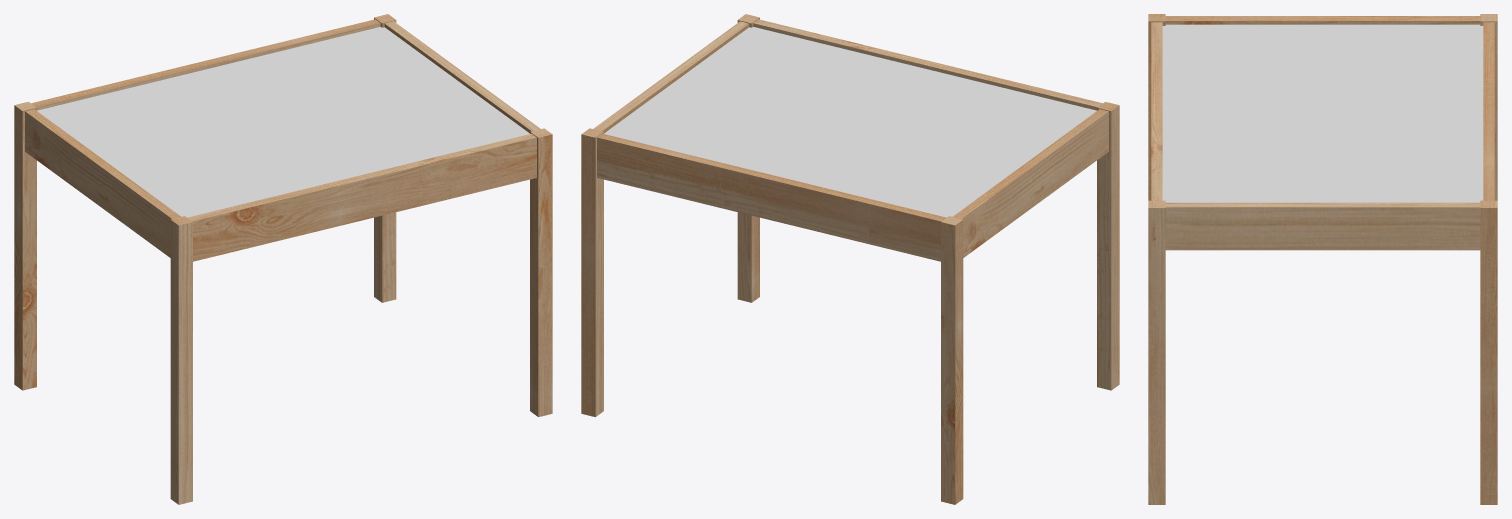
The model's file is sh_scopia_children_table.glb.
3 views of the same model, side by side, from view 1: azimuth 30°, elevation 25°; view 2: azimuth 150°, elevation 25°; view 3: azimuth 270°, elevation 25° (orthographic). The views are drawn at different scales.
Bounding box in the file's own units: 0.63 × 0.45 × 0.48.
2 materials, 1 textured.
